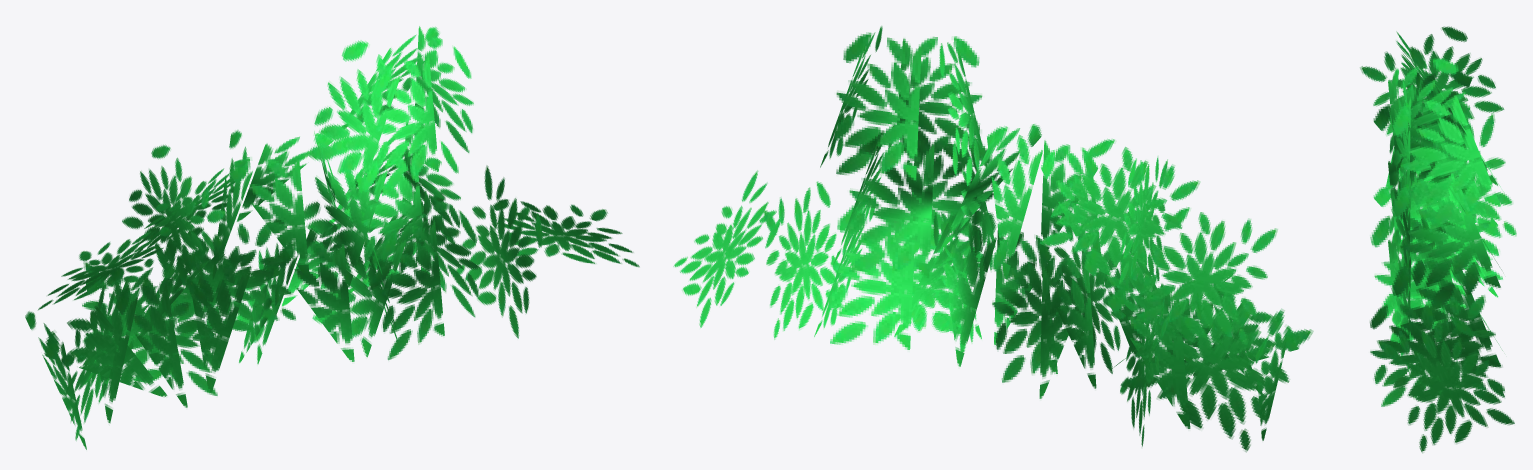
The model's file is big-bush.lod2.glb.
3 views of the same model, side by side, from view 1: azimuth 30°, elevation 25°; view 2: azimuth 150°, elevation 25°; view 3: azimuth 270°, elevation 25° (orthographic). The views are drawn at different scales.
Parts seen in each view (by area): view 1: Object_8; view 2: Object_8; view 3: Object_8.
Part boxes in pixels (box(x1,y1,x2,y2)): Object_8: box(25, 26, 639, 449); Object_8: box(673, 26, 1313, 452); Object_8: box(1360, 26, 1516, 452).
Bounding box in the file's own units: 4.19 × 2.2 × 1.02.
1 material, 1 textured.
